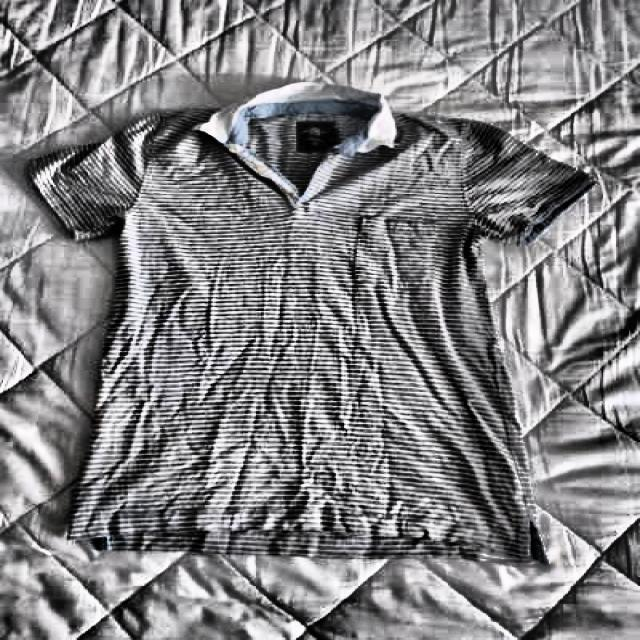clothes: (28, 82, 596, 570)
